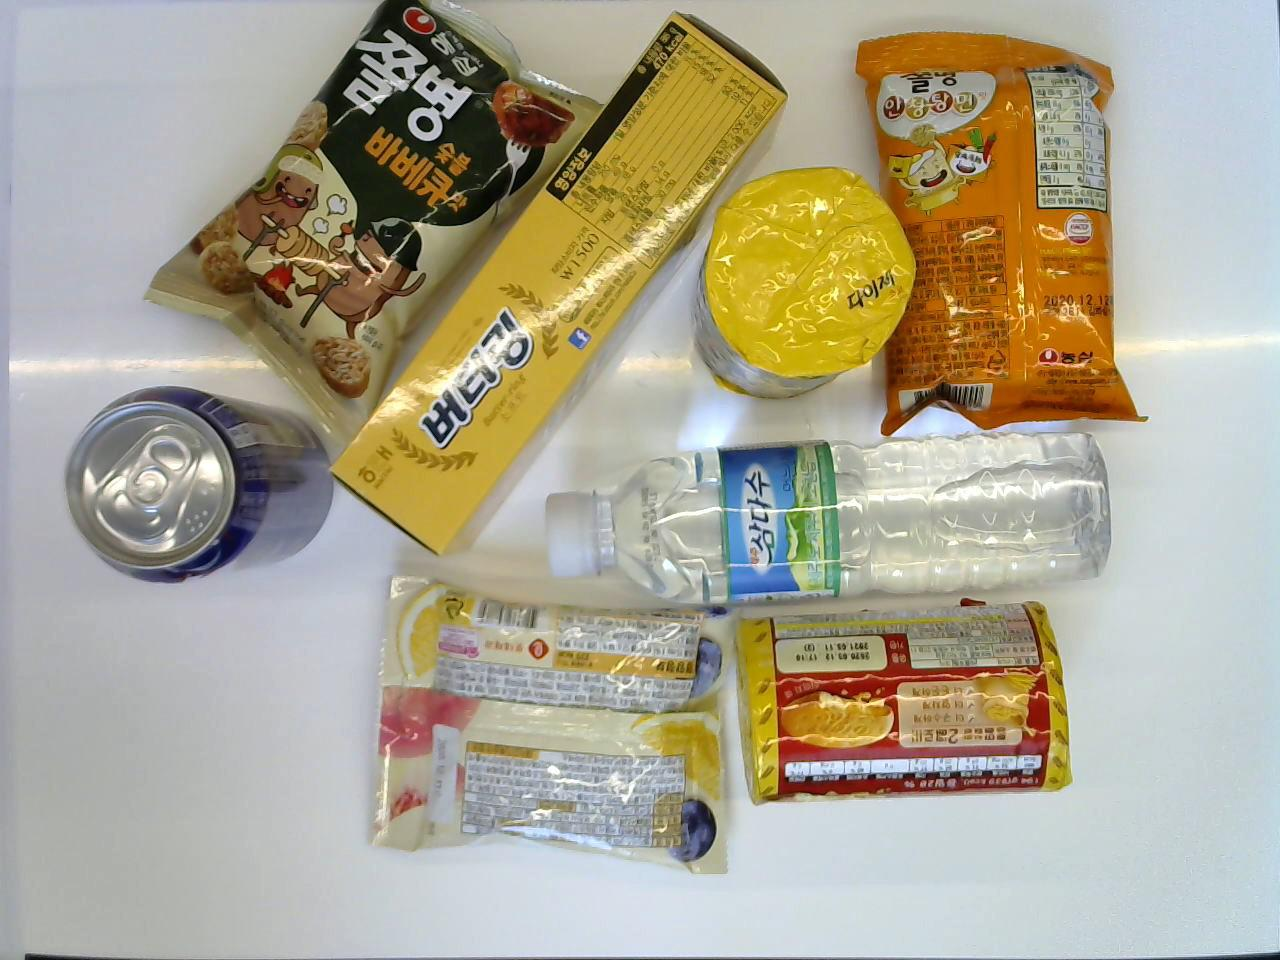buttering: (322, 0, 790, 563)
diget_choco: (682, 162, 915, 409)
gumi_gumi: (361, 572, 741, 880)
jjolbyung_noodle: (851, 19, 1151, 438)
jjolbyung_ori: (140, 0, 610, 443), (730, 589, 1078, 808)
samdasu: (535, 430, 1116, 612)
welchs: (59, 381, 335, 588)
